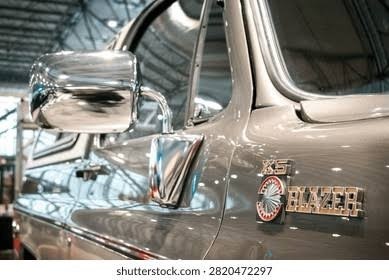car: (26, 1, 389, 254), (16, 4, 379, 256)
